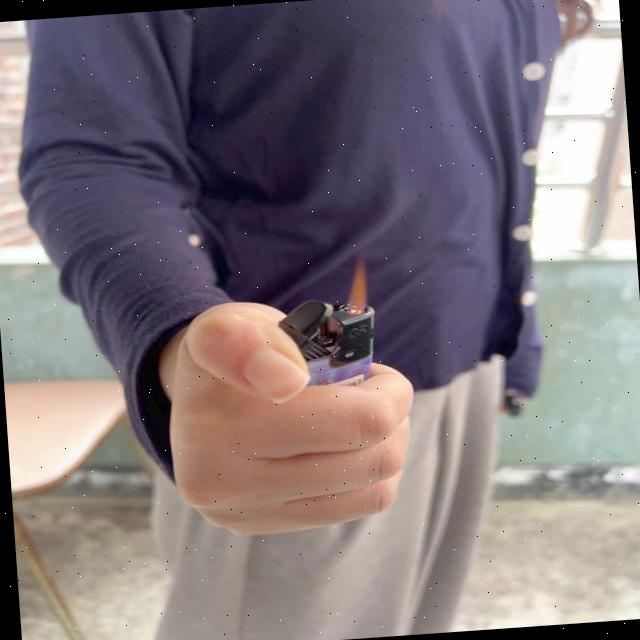fire: (340, 256, 378, 314)
